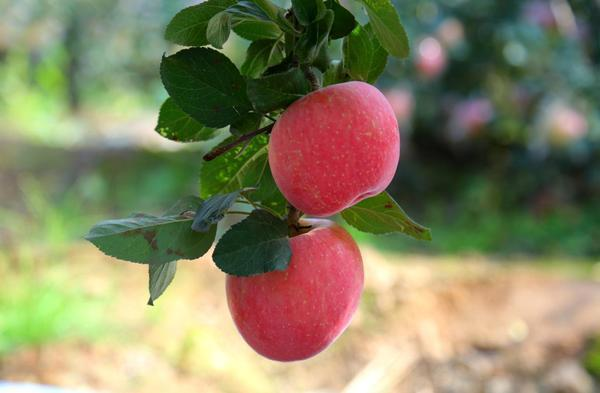apple: (225, 219, 367, 360), (266, 77, 406, 216)
